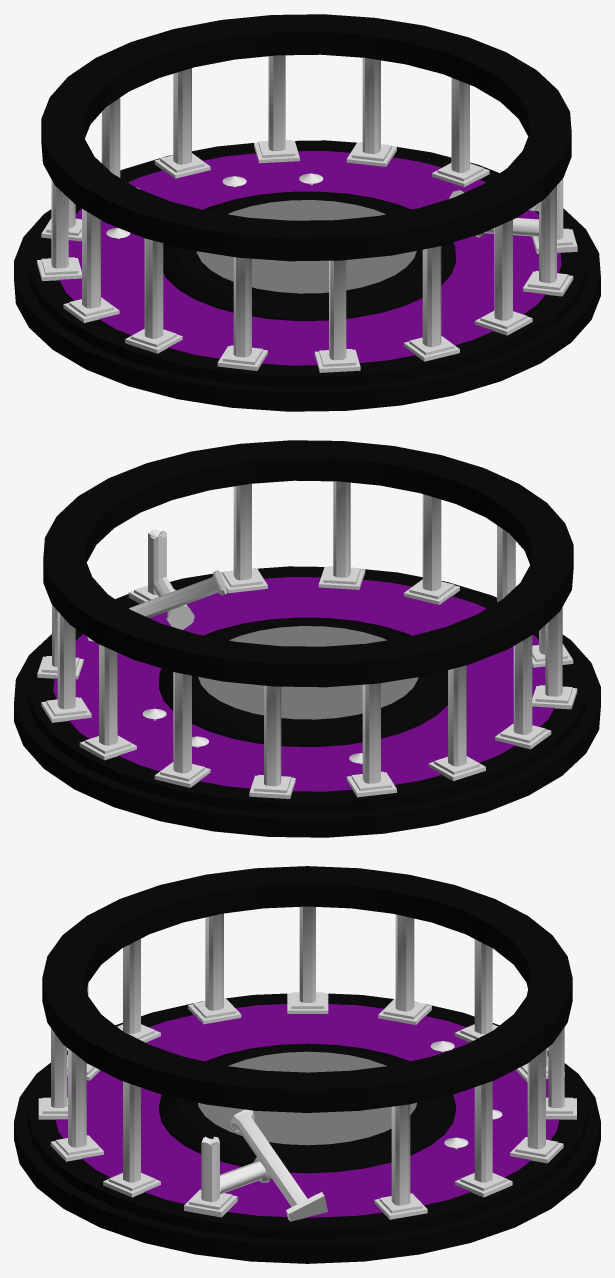
File: towerPrototype.fbx
3 renders of one model, top to bottom at view 1: azimuth 30°, elevation 25°; view 2: azimuth 150°, elevation 25°; view 3: azimuth 270°, elevation 25°, orthographic.
Visible parts, largest first — view 1: Circle.005, Cylinder, Circle, Circle.004, Cube.002, Cube.014, Cube.006, Cube.015, Cube.010, Cube.004, Cube.005, Cube.001 (+7 smaller); view 2: Circle.005, Cylinder, Circle, Circle.004, Cube.008, Cube.001, Cube.012, Cube.004, Cube.002, Cube.009, Cube.016, Cube.007 (+8 smaller); view 3: Circle.005, Cylinder, Circle, Circle.004, Cube.011, Cube.003, Cube.013, Cube.012, Cube.005, Cube.014, Cube.007, Cube.009 (+6 smaller).
Part boxes in pixels (x1,y1,x2,y2): Circle.005: (41, 14, 571, 261); Cylinder: (14, 140, 600, 411); Circle: (59, 151, 561, 365); Circle.004: (196, 200, 416, 293); Cube.002: (403, 246, 459, 361); Cube.014: (125, 238, 182, 353); Cube.006: (217, 257, 267, 370); Cube.015: (474, 219, 532, 335); Cube.010: (314, 260, 360, 372); Cube.004: (63, 209, 119, 322); Cube.005: (346, 57, 396, 166); Cube.001: (154, 68, 210, 178); Circle.005: (43, 440, 573, 687); Cylinder: (14, 566, 600, 837); Circle: (53, 577, 554, 791); Circle.004: (198, 626, 418, 719); Cube.008: (346, 683, 396, 797); Cube.001: (154, 672, 210, 787); Cube.012: (428, 665, 485, 781); Cube.004: (495, 635, 551, 749); Cube.002: (403, 494, 459, 604); Cube.009: (79, 644, 136, 760); Cube.016: (249, 685, 295, 798); Cube.007: (220, 483, 267, 593); Circle.005: (42, 866, 572, 1112); Cylinder: (14, 993, 600, 1263); Circle: (55, 1004, 559, 1217); Circle.004: (198, 1051, 416, 1145); Cube.011: (184, 1136, 271, 1217); Cube.003: (230, 1109, 327, 1221); Cube.013: (374, 1104, 427, 1219); Cube.012: (378, 914, 431, 1024); Cube.005: (454, 1081, 512, 1197); Cube.014: (188, 913, 241, 1024); Cube.007: (103, 1081, 160, 1197); Cube.009: (510, 1049, 563, 1163).
Size of the model in its own units: 20041 by 6073 by 20041.
